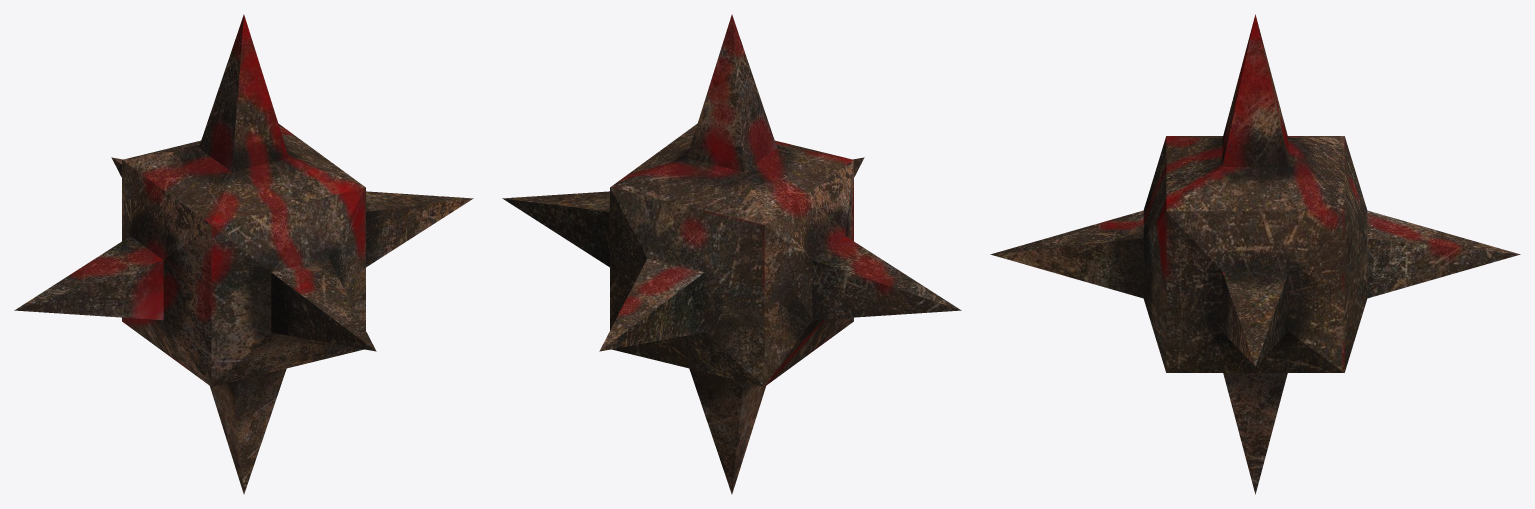
Rendered from pincho.fbx.
The picture shows the model from 3 angles, left to right: view 1: azimuth 30°, elevation 25°; view 2: azimuth 150°, elevation 25°; view 3: azimuth 270°, elevation 25°; orthographic projection.
Parts seen in each view (by area): view 1: Cube; view 2: Cube; view 3: Cube.
Part boxes in pixels (x1,y1,x2,y2): Cube: [14, 14, 473, 494]; Cube: [502, 14, 961, 494]; Cube: [990, 14, 1520, 494].
Size of the model in its own units: 912 by 912 by 912.
1 material, 1 textured.
